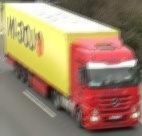truck: (2, 3, 139, 131)
